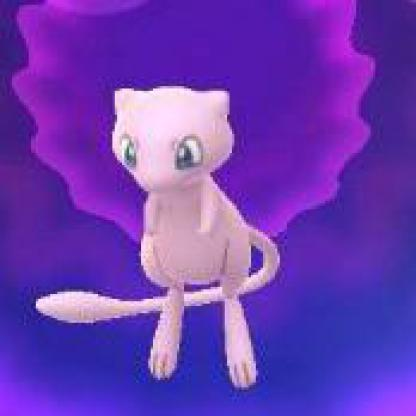Mew: (1, 16, 393, 413)
